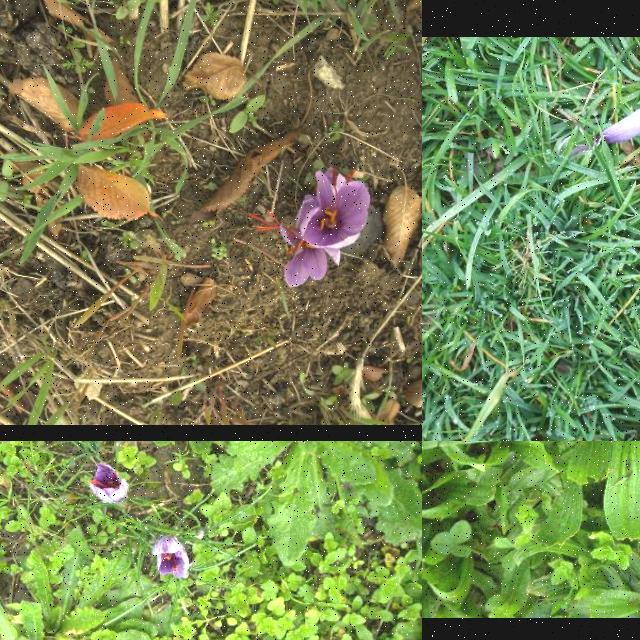flower: (248, 210, 342, 286), (298, 171, 370, 249), (152, 536, 190, 580), (605, 99, 640, 145), (90, 462, 128, 504)
